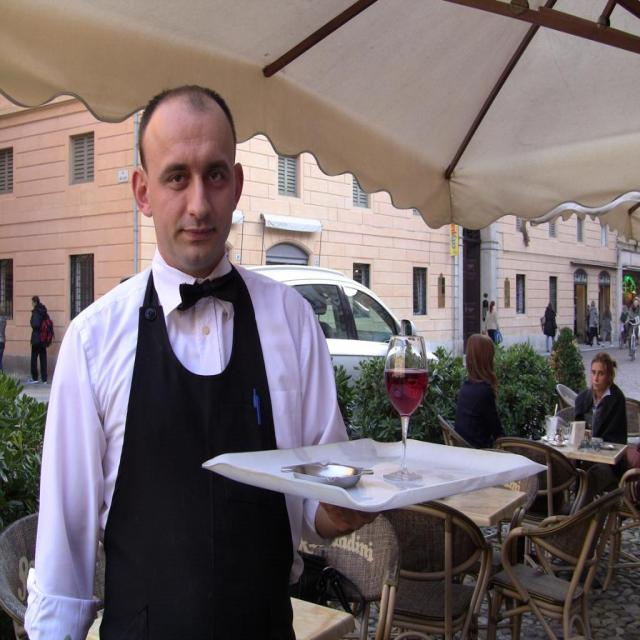nomask: (152, 124, 235, 271), (590, 364, 608, 389), (31, 300, 35, 308)
